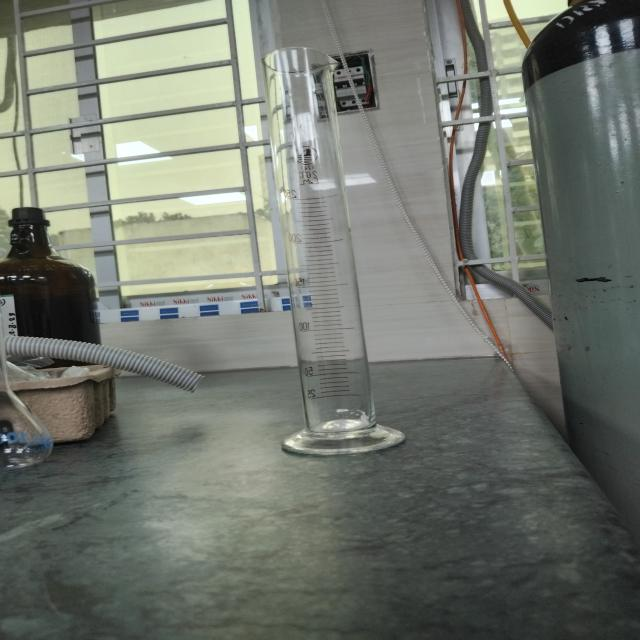Measuring_Cylinder: (224, 27, 431, 476)
